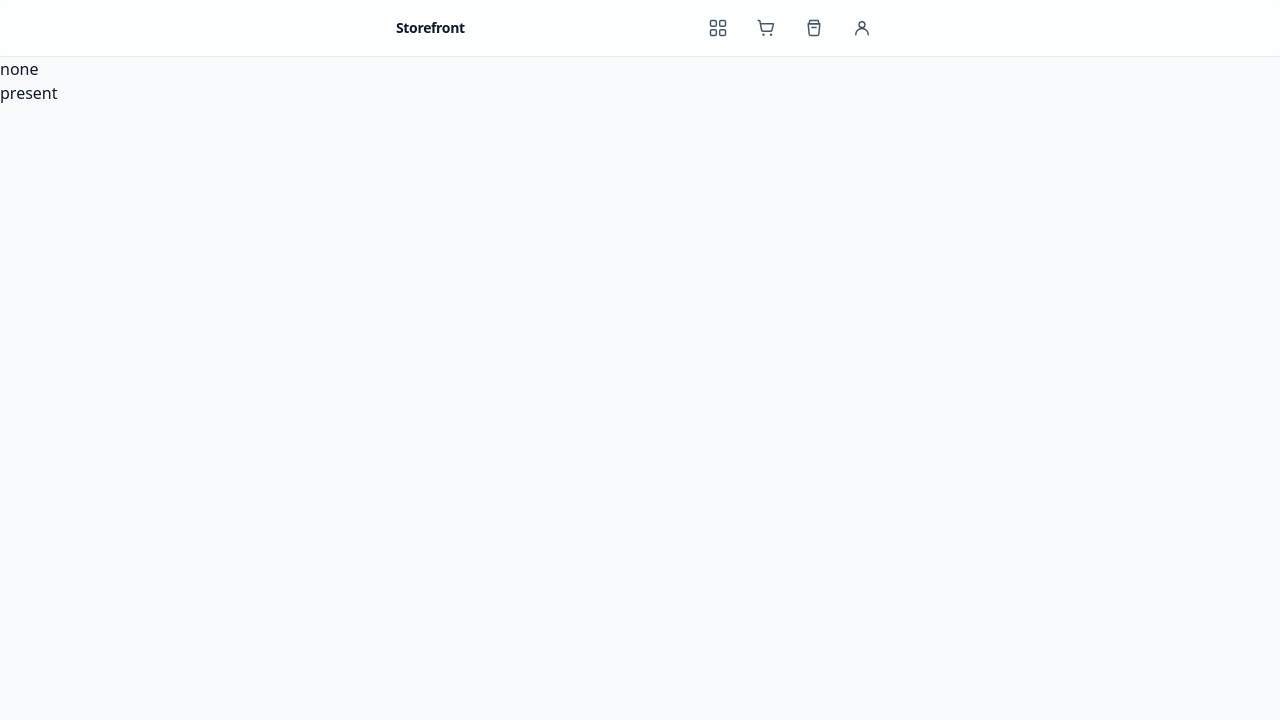
ResetControl › reports the reset as unconfirmed (not failed) on a 504, per C4/F8
Click the button named "Profile": coordinates (862, 28) [840,6,884,50]
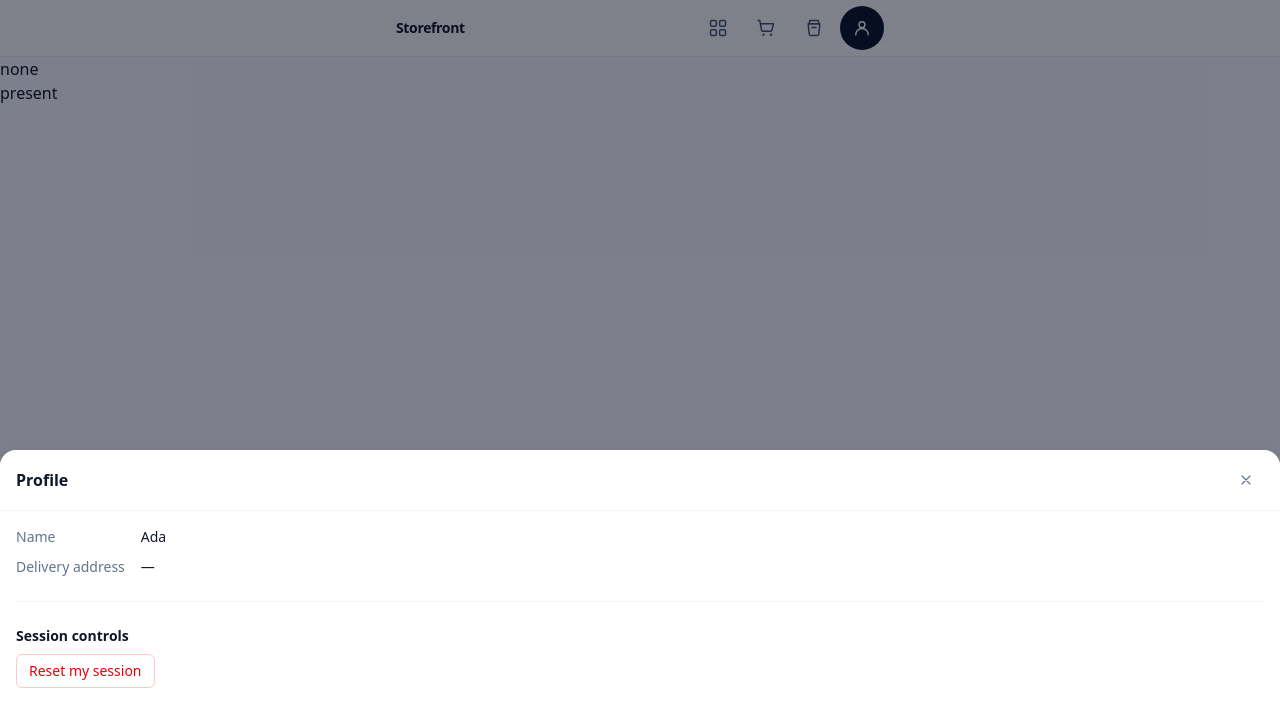
Click the button "Reset my session": coordinates (85, 671) [16,654,154,688]
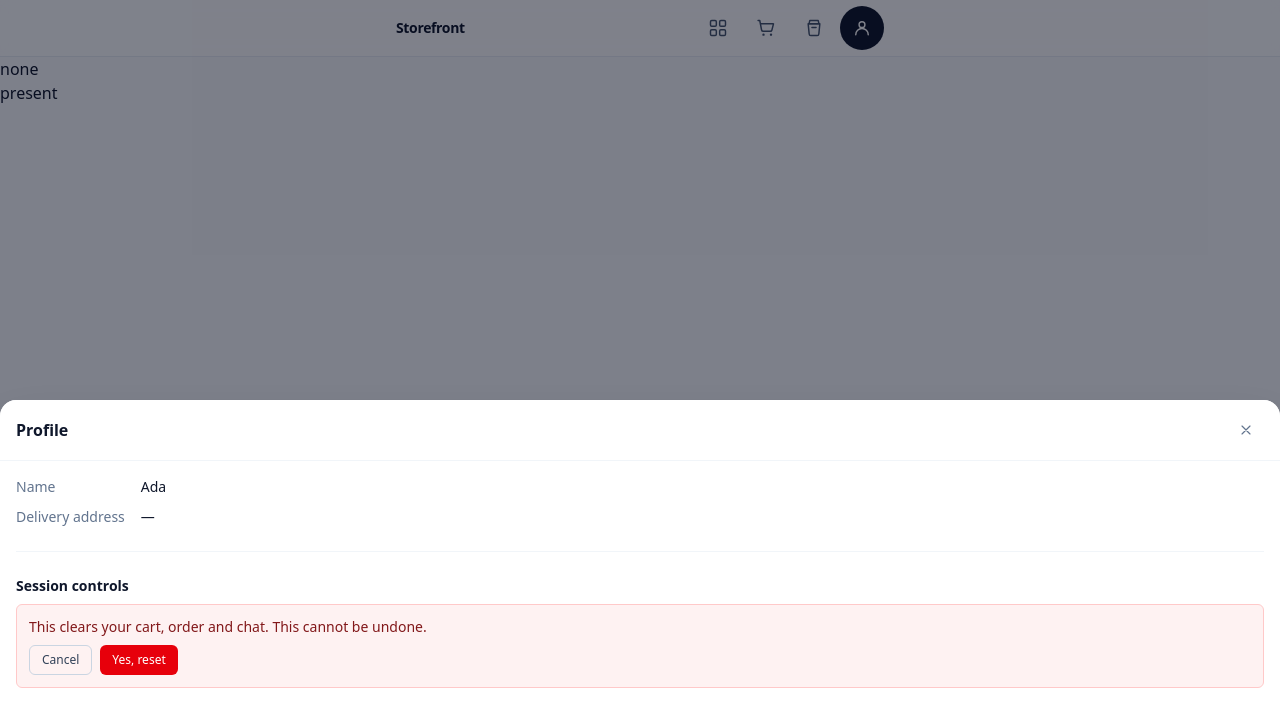
Click the button "Yes, reset": coordinates (139, 660) [100,645,178,675]
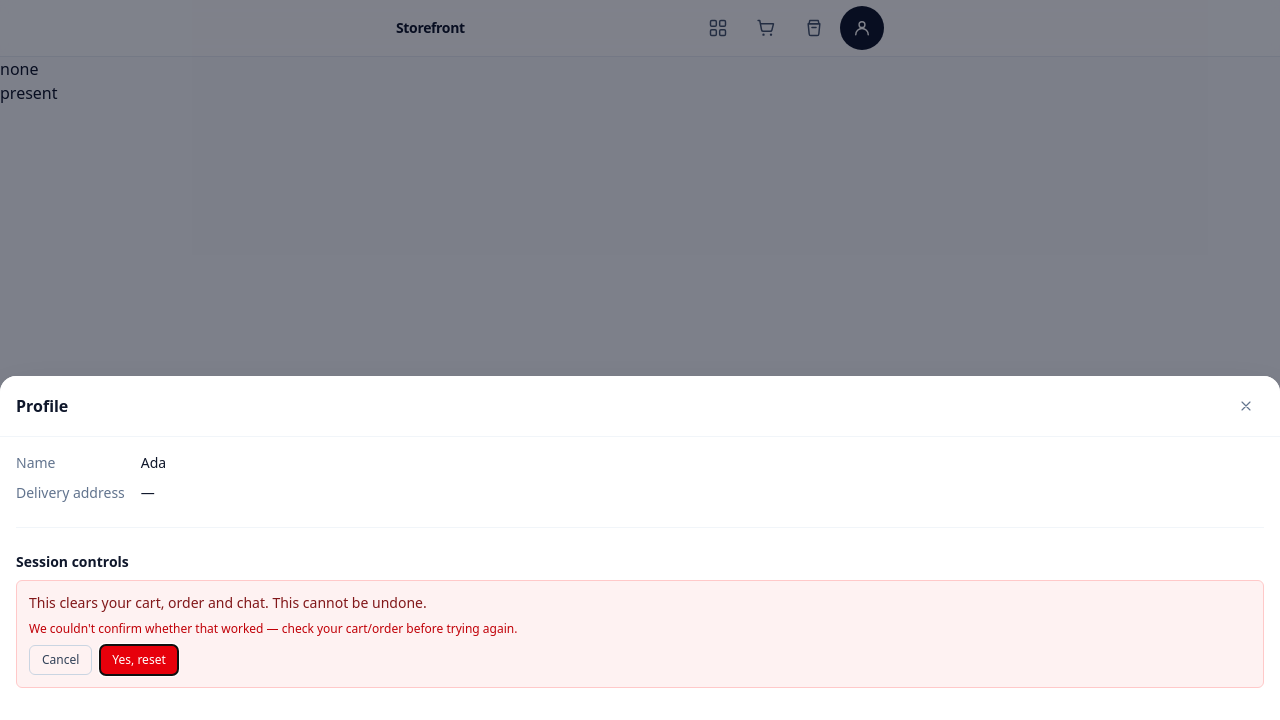
Expected: the message does not show "nothing was reset", [29,620,517,637]
Now the button "Cancel" is shown, box [29,645,92,675]
Now the message shows "couldn.t confirm whether that worked", box [29,620,517,637]
